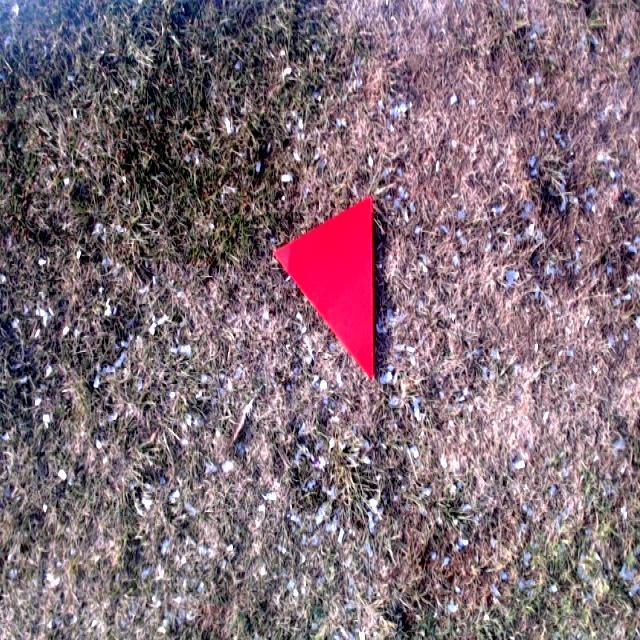red_triangle: (274, 195, 374, 383)
